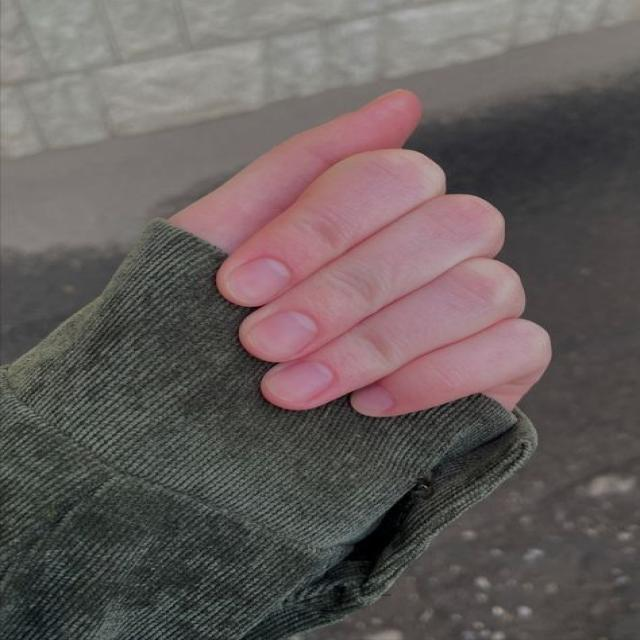Fingernail: (248, 311, 317, 357), (267, 361, 334, 403), (230, 258, 291, 303), (358, 385, 393, 410)
